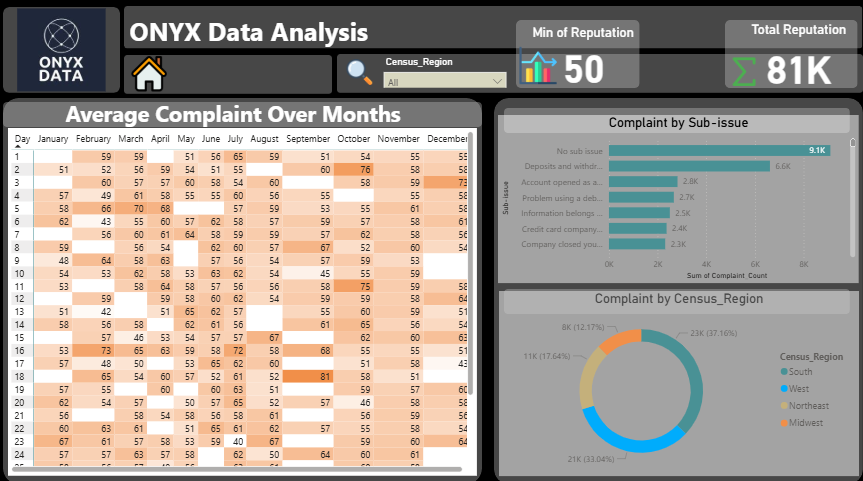

What the dashboard file says about the page in this screenshot:
{"tool":"powerbi","page":{"name":"Page 3","canvas":[1280,720],"ordinal":2},"visuals":[{"type":"shape","box":[5.9,10.3,171.9,126.4],"z":0},{"type":"shape","box":[5.9,144,703.8,567.2],"z":1000},{"type":"shape","box":[727.3,144,542.2,567.2],"z":2000},{"type":"shape","box":[183.7,80.8,305.6,57.3],"z":3000},{"type":"shape","box":[496.7,79.3,772.9,57.3],"z":4000},{"type":"shape","box":[184.1,8.9,1085.1,62.6],"z":5000},{"type":"shape","box":[5.9,149.9,703.8,36.7],"z":6000},{"type":"shape","box":[742,158.7,508.4,36.7],"z":7000},{"type":"pivotTable","fields":{"Columns":["DataDNA.Date received.Variation.Date Hierarchy.Month"],"Rows":["DataDNA.Date received.Variation.Date Hierarchy.Day"],"Values":["All Measure.Avg complaints"]},"box":[13.2,188.1,689.1,511.3],"z":8000},{"type":"textbox","box":[92.6,139.6,524.6,69.1],"z":9000},{"type":"clusteredBarChart","title":"Complaint by Sub-issue","fields":{"Category":["DataDNA.Sub-issue"],"Y":["Sum(DataDNA.Complaint_Count)"]},"box":[733.2,169,530.4,246.9],"z":10000},{"type":"donutChart","title":"Complaint by Census_Region","fields":{"Category":["DataDNA.Census_Region"],"Y":["Sum(DataDNA.Complaint_Count)"]},"box":[734.7,427.6,529,271.8],"z":11000},{"type":"shape","box":[760,30,181.7,100],"z":12000},{"type":"shape","box":[1066.7,30,195,100],"z":13000},{"type":"card","title":"Total Reputation ","fields":{"Values":["All Measure.sum of reputation"]},"box":[1091.7,31.7,166.7,105],"z":14000},{"type":"card","title":"Min of Reputation","fields":{"Values":["All Measure.min of reputation"]},"box":[770,36.7,176.7,93.3],"z":15000},{"type":"slicer","fields":{"Values":["DataDNA.Census_Region"]},"box":[555.4,77.9,199.8,51.4],"z":16000},{"type":"image","box":[505.5,80.8,48.5,50],"z":17000},{"type":"textbox","box":[185.9,14.3,377.2,69.7],"z":18000},{"type":"image","box":[760,61.7,65,68.3],"z":19000},{"type":"image","box":[1066.7,80,55,51.7],"z":20000},{"type":"image","box":[190,76.7,61.7,63.3],"z":22000},{"type":"image","box":[14.7,7.3,154.3,132.2],"z":22001},{"type":"shape","box":[742,424.7,508.4,36.7],"z":22002}]}

Visuals, with their boxes in screenshot pixels (x1, y1, x2, y2), scaled from the page's 1280x720 canvas onto the 863x481 screenshot:
shape: box=[4, 7, 120, 91]
shape: box=[4, 96, 478, 475]
shape: box=[490, 96, 856, 475]
shape: box=[124, 54, 330, 92]
shape: box=[335, 53, 856, 91]
shape: box=[124, 6, 856, 48]
shape: box=[4, 100, 478, 125]
shape: box=[500, 106, 843, 131]
pivotTable - DataDNA.Date received.Variation.Date Hierarchy.Month x DataDNA.Date received.Variation.Date Hierarchy.Day: box=[9, 126, 474, 467]
textbox: box=[62, 93, 416, 139]
"Complaint by Sub-issue" clusteredBarChart: box=[494, 113, 852, 278]
"Complaint by Census_Region" donutChart: box=[495, 286, 852, 467]
shape: box=[512, 20, 635, 87]
shape: box=[719, 20, 851, 87]
"Total Reputation " card: box=[736, 21, 848, 91]
"Min of Reputation" card: box=[519, 25, 638, 87]
slicer - DataDNA.Census_Region: box=[374, 52, 509, 86]
image: box=[341, 54, 374, 87]
textbox: box=[125, 10, 380, 56]
image: box=[512, 41, 556, 87]
image: box=[719, 53, 756, 88]
image: box=[128, 51, 170, 94]
image: box=[10, 5, 114, 93]
shape: box=[500, 284, 843, 308]
